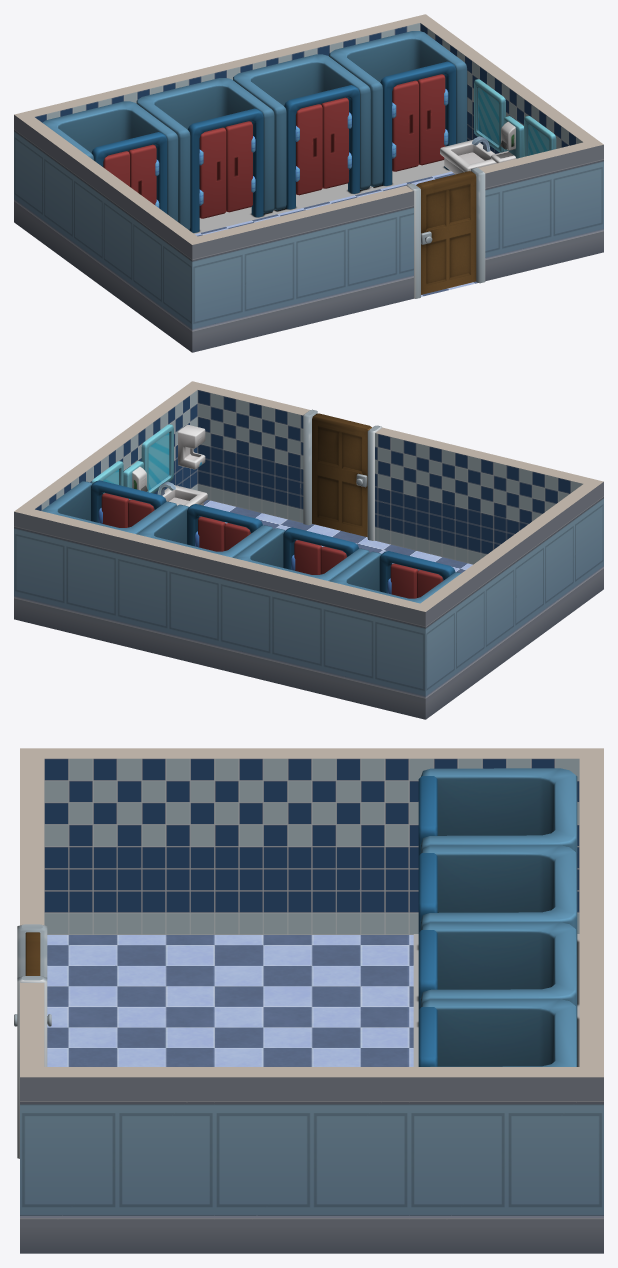
Rendered from Toilet_01.FBX.
3 renders of one model, top to bottom at view 1: azimuth 30°, elevation 25°; view 2: azimuth 150°, elevation 25°; view 3: azimuth 270°, elevation 25°, orthographic. The views are drawn at different scales.
Visible parts, largest first — view 1: qq39, qq36, qq38, Toilet_Item_Closestool002, Toilet_Item_Closestool001, Toilet_Item_Closestool003, qq29, qq52, qq28, Toilet_Item_Closestool, StaffLounge_Item_Door_004, qq37 (+35 smaller); view 2: qq02, qq12, qq18, qq15, qq41, qq43, qq29, qq52, qq28, StaffLounge_Item_Door_004, qq42, qq37 (+35 smaller); view 3: qq24, qq30, qq21, qq49, qq53, qq10, Toilet_Item_Closestool001, Toilet_Item_Closestool, Toilet_Item_Closestool002, qq47, qq07, Toilet_Item_Closestool003 (+18 smaller).
Boxes of the visible parts, <box> form: qq39: <box>192,220,295,352</box>; qq36: <box>501,144,603,277</box>; qq38: <box>295,195,397,327</box>; Toilet_Item_Closestool002: <box>233,54,370,210</box>; Toilet_Item_Closestool001: <box>136,78,274,232</box>; Toilet_Item_Closestool003: <box>329,31,467,186</box>; qq29: <box>14,115,73,265</box>; qq52: <box>133,202,192,352</box>; qq28: <box>73,158,132,308</box>; Toilet_Item_Closestool: <box>42,101,178,221</box>; StaffLounge_Item_Door_004: <box>416,171,476,294</box>; qq37: <box>391,164,500,302</box>; qq02: <box>322,587,425,719</box>; qq12: <box>220,562,322,694</box>; qq18: <box>14,511,116,644</box>; qq15: <box>117,537,219,669</box>; qq41: <box>390,437,493,564</box>; qq43: <box>197,390,287,519</box>; qq29: <box>425,569,484,719</box>; qq52: <box>544,482,603,632</box>; qq28: <box>485,525,544,675</box>; StaffLounge_Item_Door_004: <box>312,413,371,537</box>; qq42: <box>493,462,582,549</box>; qq37: <box>287,406,397,544</box>; qq24: <box>214,1077,409,1253</box>; qq30: <box>214,758,409,934</box>; qq21: <box>409,1077,603,1253</box>; qq49: <box>20,1077,214,1253</box>; qq53: <box>44,758,214,934</box>; qq10: <box>214,935,409,1006</box>; Toilet_Item_Closestool001: <box>418,845,577,932</box>; Toilet_Item_Closestool: <box>418,768,577,855</box>; Toilet_Item_Closestool002: <box>418,922,577,1009</box>; qq47: <box>47,935,214,1006</box>; qq07: <box>214,1007,409,1066</box>; Toilet_Item_Closestool003: <box>418,999,577,1066</box>.
Size of the model in its own units: 8 by 2.02 by 6.06.
